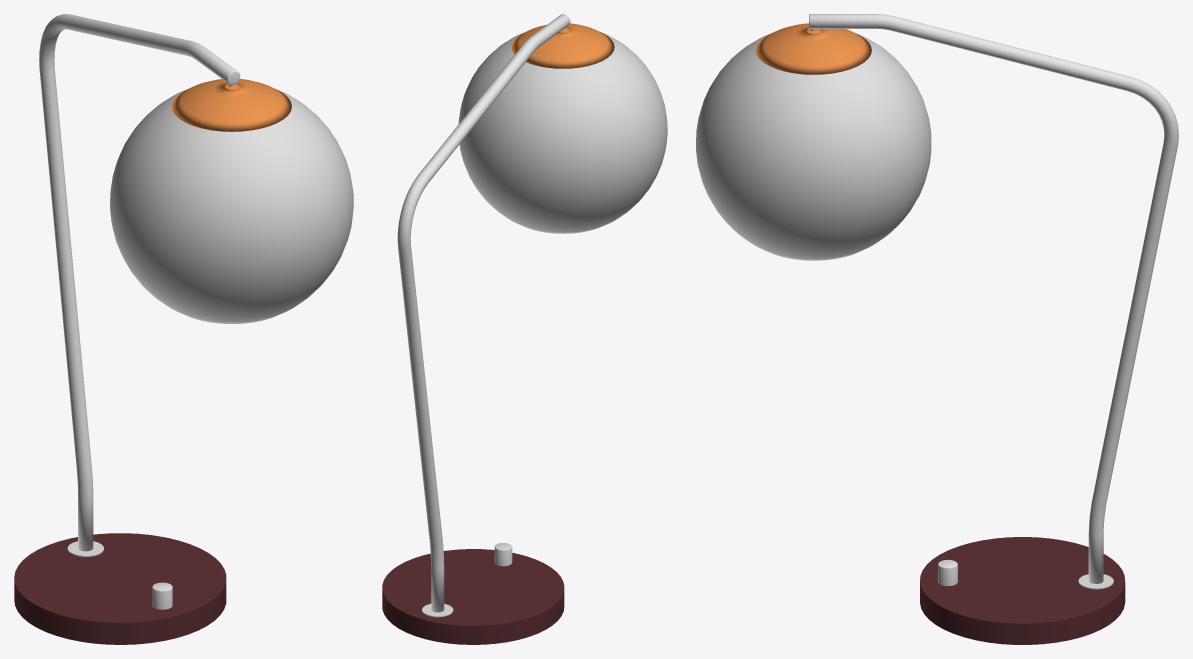
File: lamp.glb
The picture shows the model from 3 angles, left to right: view 1: azimuth 30°, elevation 25°; view 2: azimuth 150°, elevation 25°; view 3: azimuth 270°, elevation 25°; orthographic projection. The views are drawn at different scales.
Visible parts, largest first — view 1: Outer Glass, Base, Rod, TopPiece, PowerKnob; view 2: Outer Glass, Base, Rod, TopPiece; view 3: Outer Glass, Base, Rod, TopPiece.
Boxes of the visible parts, x1,y1,x2,y2 form: Outer Glass: (110, 89, 353, 323); Base: (14, 533, 226, 644); Rod: (39, 14, 240, 551); TopPiece: (171, 79, 291, 131); PowerKnob: (152, 582, 172, 609); Outer Glass: (458, 33, 667, 233); Base: (382, 549, 564, 644); Rod: (397, 14, 570, 612); TopPiece: (511, 23, 614, 68); Outer Glass: (696, 34, 931, 260); Base: (920, 537, 1125, 644); Rod: (809, 14, 1178, 583); TopPiece: (755, 23, 871, 74).
Bounding box in the file's own units: 0.8992 × 2.48 × 1.84.
